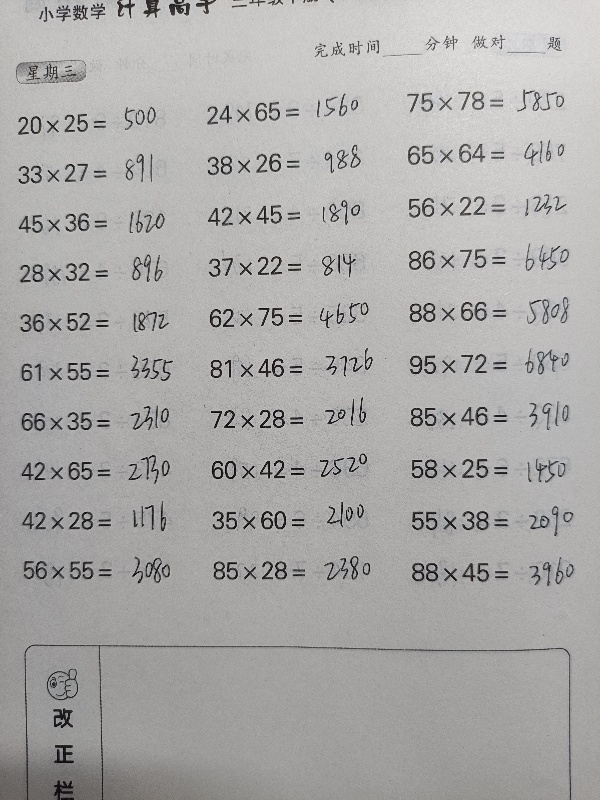equation: (399, 188, 579, 224), (403, 555, 583, 590), (205, 553, 385, 588), (403, 503, 583, 538), (204, 503, 384, 538), (403, 451, 583, 486), (401, 399, 581, 434), (400, 346, 580, 381), (400, 294, 580, 329), (11, 254, 191, 289), (200, 248, 380, 283), (399, 241, 579, 276), (10, 205, 190, 240), (199, 197, 379, 232), (198, 146, 378, 181), (398, 136, 578, 171), (198, 95, 378, 130), (398, 83, 578, 118), (15, 553, 195, 587), (13, 504, 193, 538), (13, 454, 193, 488), (202, 452, 382, 486), (12, 404, 192, 438), (203, 402, 383, 436), (201, 351, 381, 385), (11, 305, 191, 339), (200, 300, 380, 334), (9, 156, 189, 190), (9, 106, 189, 140), (11, 355, 191, 388)
